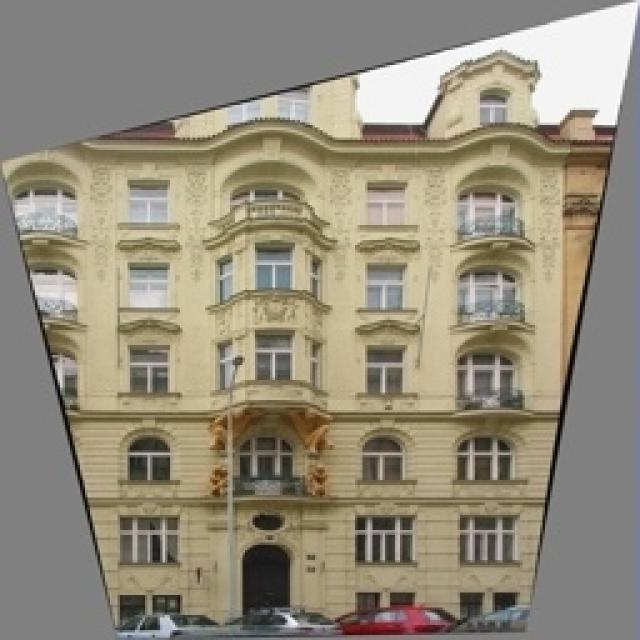building: (0, 20, 562, 640)
